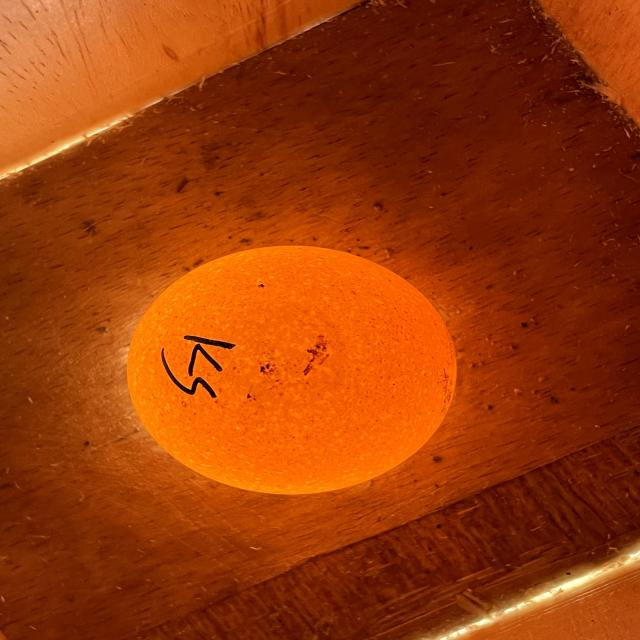infertile: (128, 246, 457, 494)
